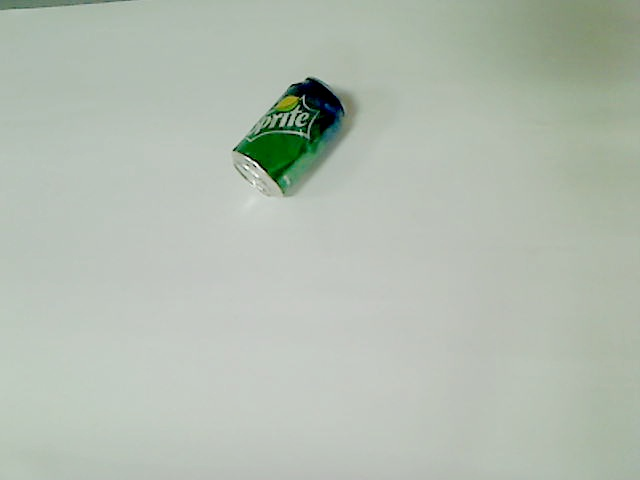can: (230, 73, 351, 199)
